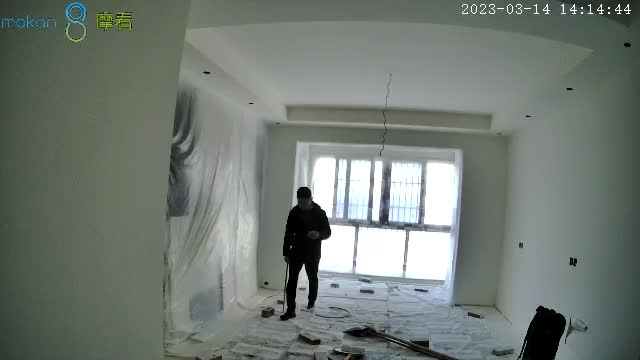people: (280, 186, 330, 321)
window: (309, 150, 455, 281)
